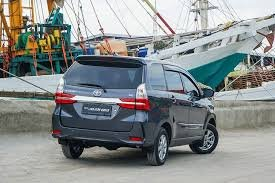mobil: (55, 54, 224, 167)
